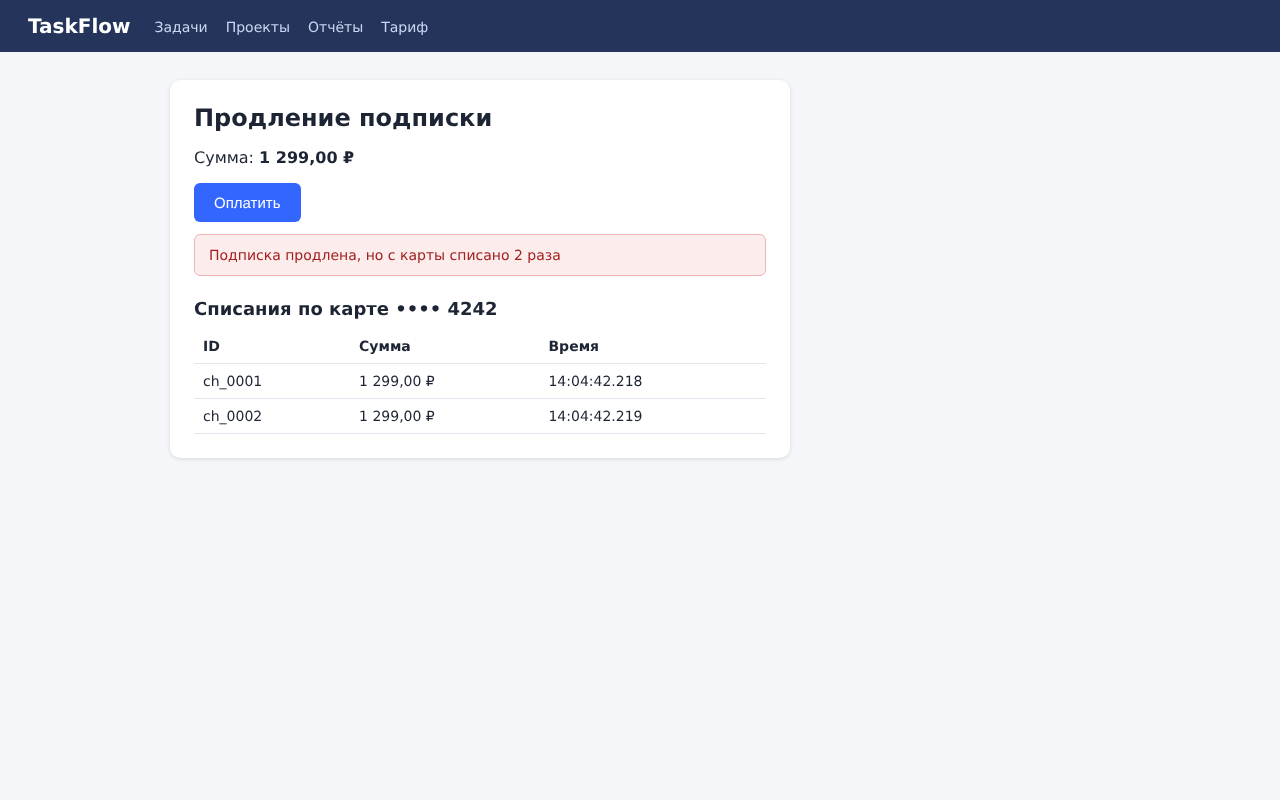DEFECT_AREA: (194, 364, 766, 434)
ERROR_TEXT: (194, 234, 766, 276)
PII: (397, 301, 496, 315)
UI_ELEMENT: (194, 183, 301, 222)
